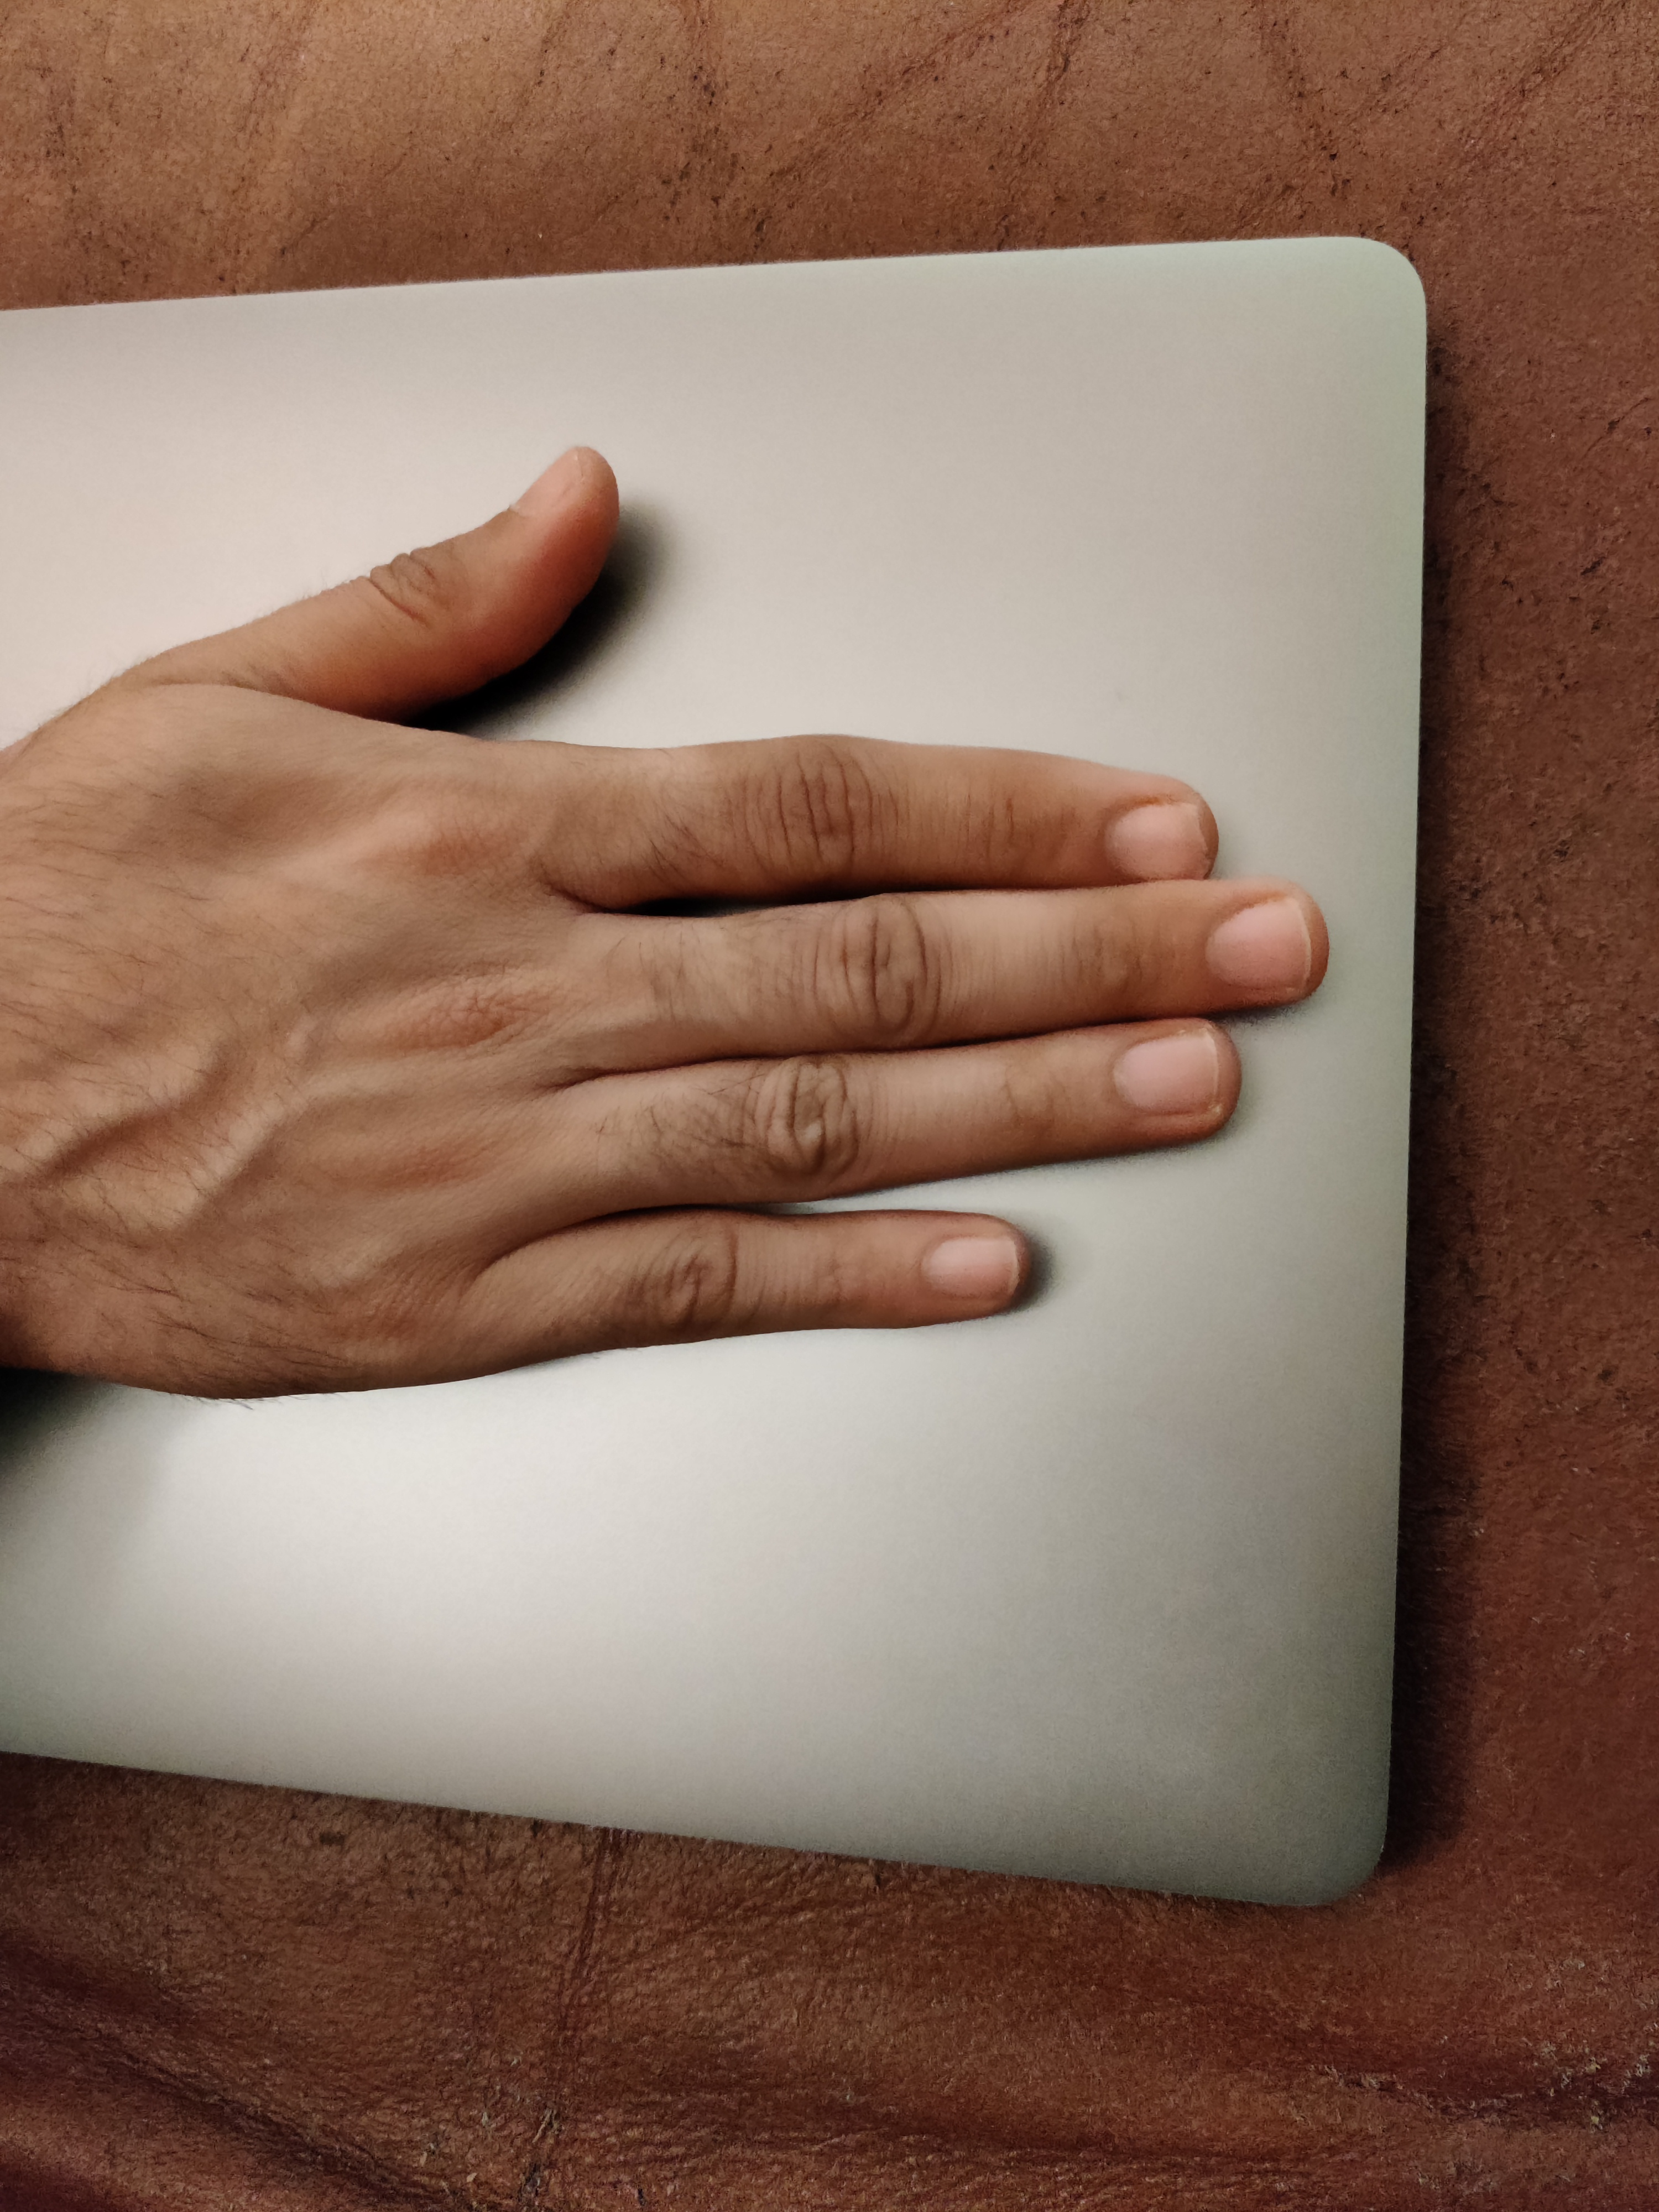left: (9, 251, 1542, 1611)
